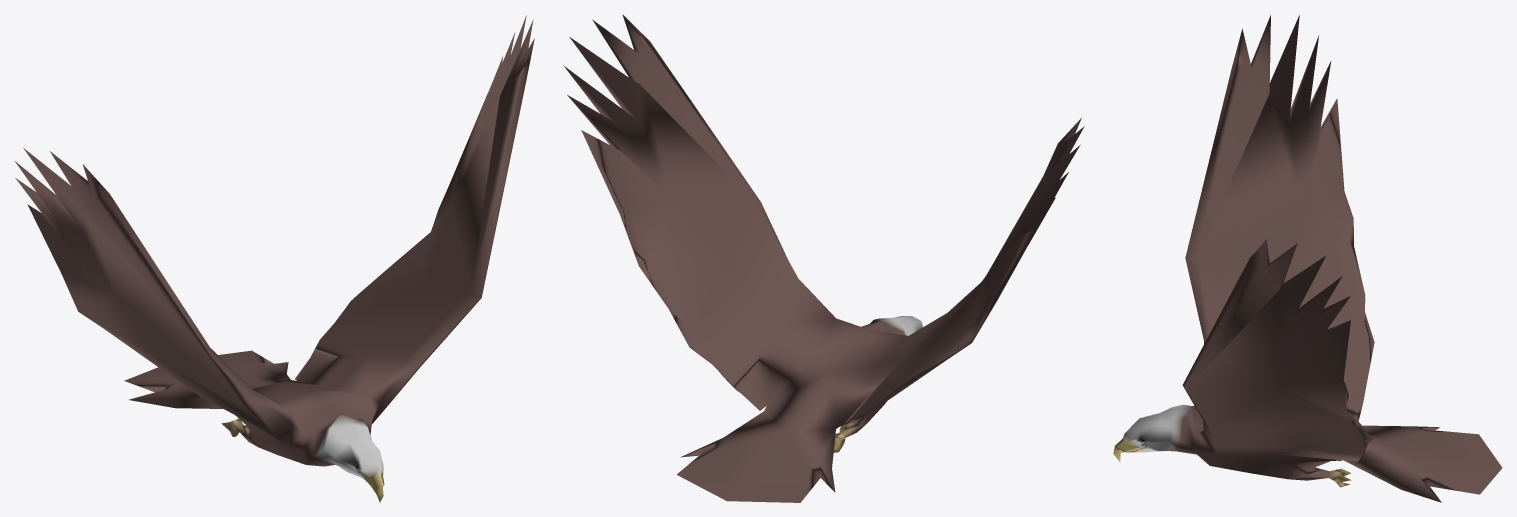
File: eagle.gltf
3 views of the same model, side by side, from view 1: azimuth 30°, elevation 25°; view 2: azimuth 150°, elevation 25°; view 3: azimuth 270°, elevation 25° (orthographic). The views are drawn at different scales.
Bounding box in the file's own units: 139 × 94.17 × 96.25.
